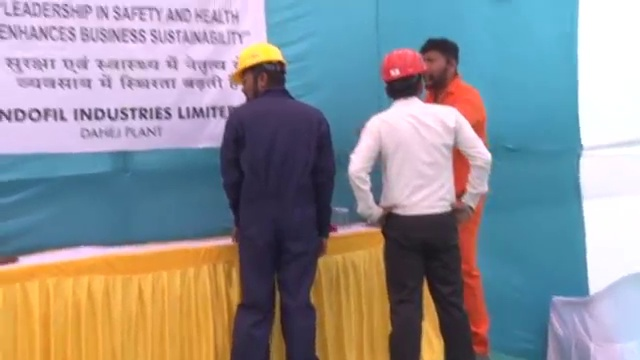helmet: (231, 42, 289, 83), (379, 49, 429, 84)
helmet_off: (419, 37, 460, 89)
helmet_on: (229, 41, 290, 103), (377, 48, 430, 102)
person: (347, 48, 494, 360), (220, 42, 336, 360), (415, 35, 487, 358)
